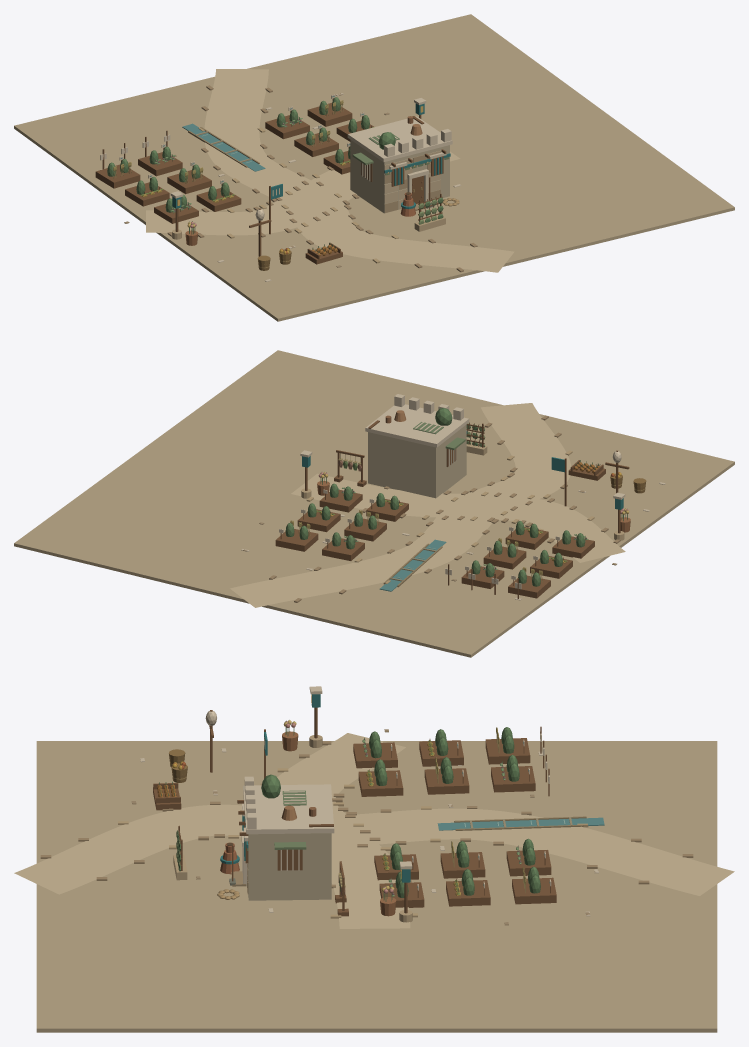
File: city-garden.glb
3 views of the same model, one above another, from view 1: azimuth 30°, elevation 25°; view 2: azimuth 150°, elevation 25°; view 3: azimuth 270°, elevation 25° (orthographic). The views are drawn at different scales.
Parts seen in each view (by area): view 1: city-garden; view 2: city-garden; view 3: city-garden.
Part boxes in pixels (bbox=[...]): city-garden: bbox=[14, 14, 734, 321]; city-garden: bbox=[14, 350, 734, 657]; city-garden: bbox=[14, 686, 734, 1032].
Bounding box in the file's own units: 33.22 × 4.97 × 33.89.
